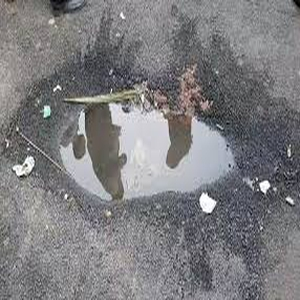pothole: (42, 84, 254, 208)
